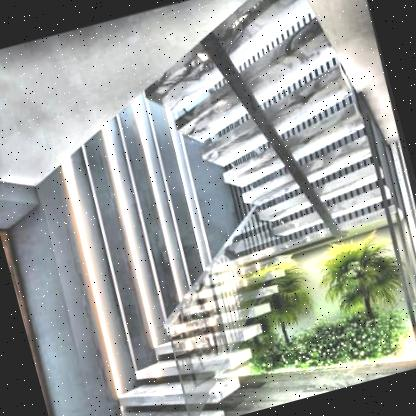stair: (79, 252, 304, 416)
